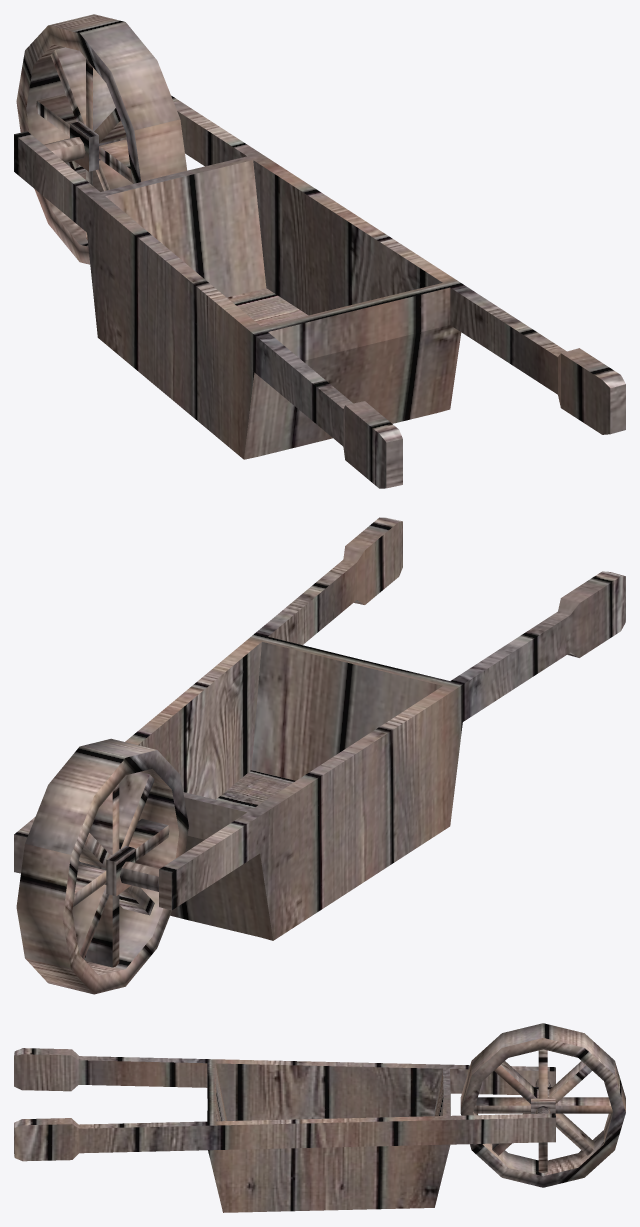
Rendered from Wheelbarrow.glb.
3 renders of one model, top to bottom at view 1: azimuth 30°, elevation 25°; view 2: azimuth 150°, elevation 25°; view 3: azimuth 270°, elevation 25°, orthographic. The views are drawn at different scales.
Parts seen in each view (by area): view 1: WheelBarrow; view 2: WheelBarrow; view 3: WheelBarrow.
Part boxes in pixels (x1,y1,x2,y2): WheelBarrow: [14, 14, 625, 488]; WheelBarrow: [14, 517, 625, 994]; WheelBarrow: [14, 1023, 625, 1212].
Bounding box in the file's own units: 0.4967 × 0.45 × 1.66.
Materials: 1 (1 with a texture image).
